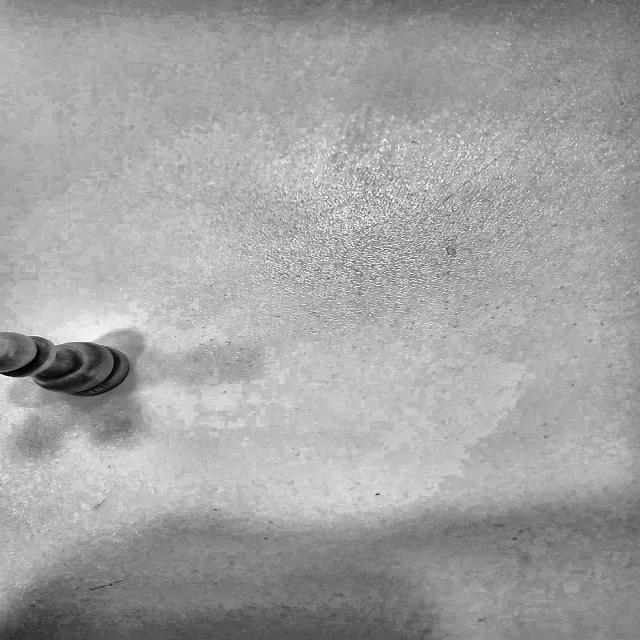white-pawn: (0, 298, 130, 444)
